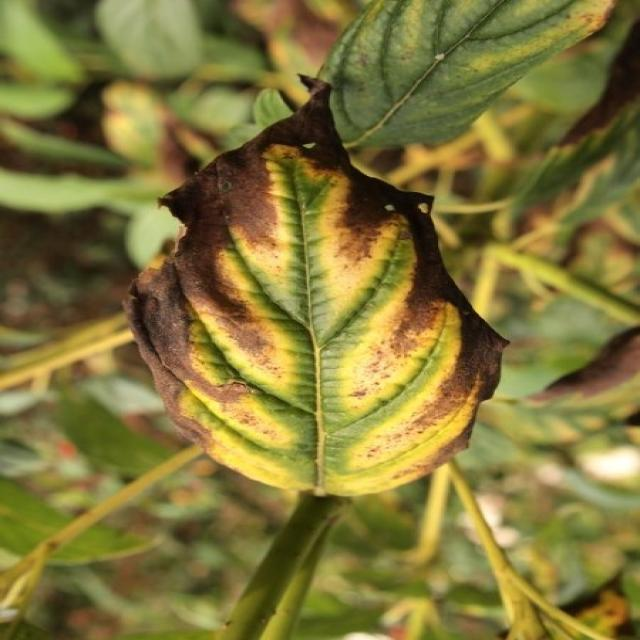Chlorosis: (112, 115, 574, 535)
